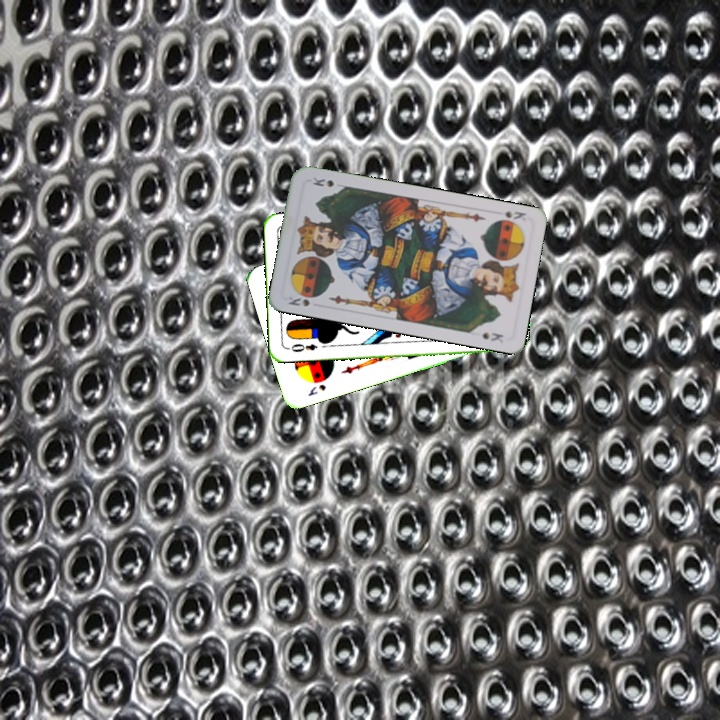EO: (284, 340, 320, 355)
SK: (499, 207, 529, 224), (284, 292, 312, 309), (304, 380, 328, 399)
